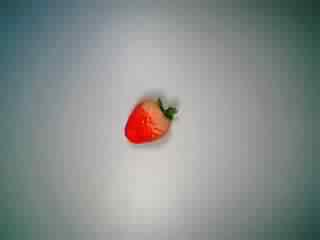strawberry: (114, 90, 182, 154)
